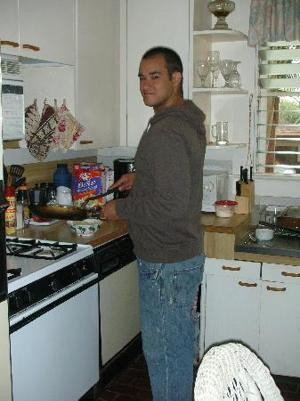person: (101, 46, 207, 401)
